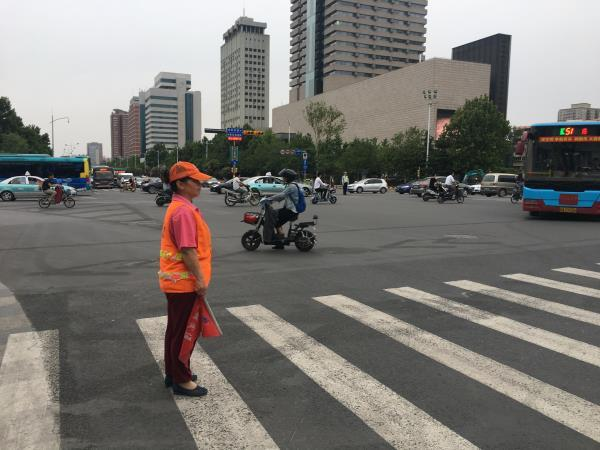bicycle: (240, 200, 319, 252), (312, 187, 337, 205)
bus: (514, 122, 600, 218), (1, 153, 91, 193), (92, 166, 114, 189)
car: (0, 175, 51, 201), (480, 173, 518, 196), (241, 176, 289, 194), (348, 178, 388, 194), (141, 177, 163, 193), (120, 175, 136, 190), (396, 182, 414, 194)
motorcycle: (224, 187, 259, 207), (38, 190, 76, 208), (285, 184, 307, 214), (433, 185, 465, 204)
person: (158, 160, 219, 397), (262, 171, 307, 246), (41, 175, 59, 205), (444, 170, 460, 200), (313, 173, 329, 202), (222, 175, 247, 193), (513, 175, 525, 202)
sign: (225, 125, 244, 142), (280, 149, 308, 157)
